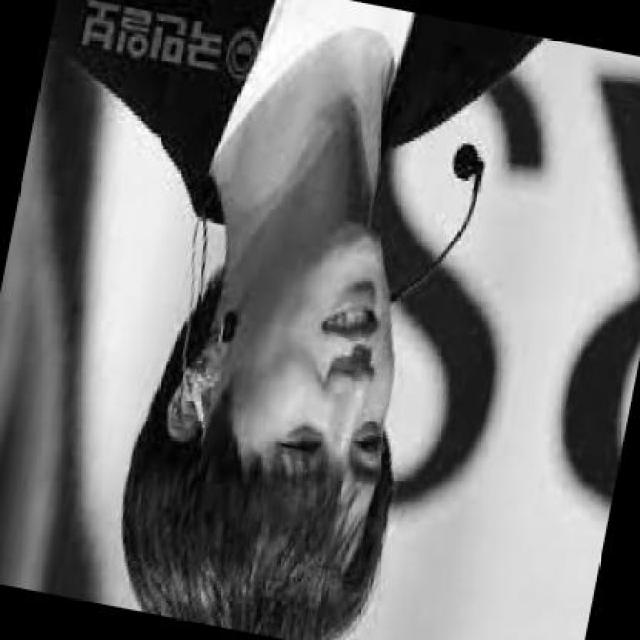earphone: (166, 360, 234, 426)
